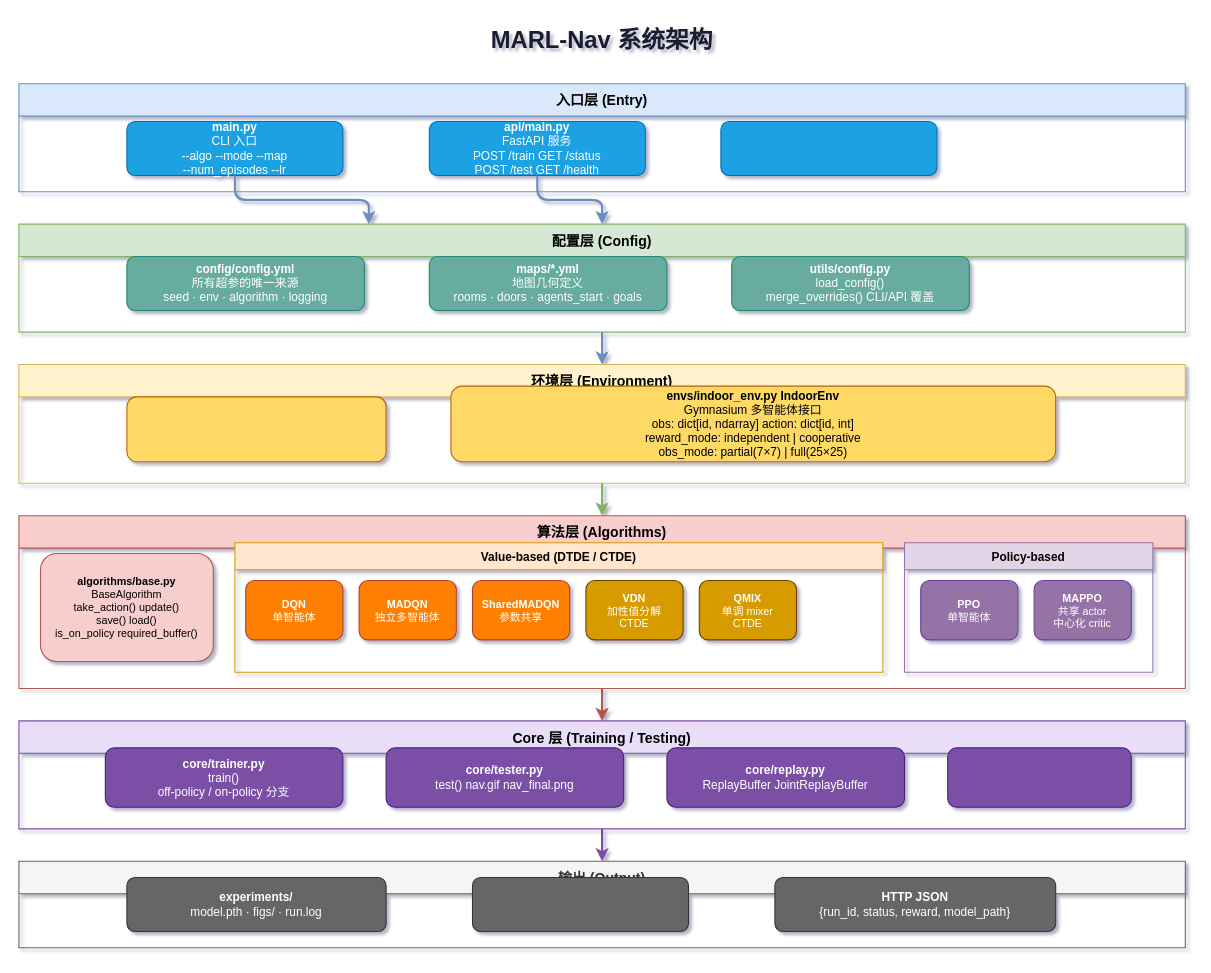
Image size: 1211x973. Some labels were removed from this diagram. The shapes that lost their labels are listed below. From the top down, each one's centre as x and y in pixels, then its label:
the point at 828,148: api/runs.py RunState 注册表 asyncio 后台任务 run_id 轮询
the point at 256,429: envs/map_builder.py load_map_spec() build_grid_array() WALL=1 DOOR=2 EMPTY=0
the point at 1039,777: core/plot.py reward.png steps.png
the point at 579,904: test/nav.gif 轨迹可视化动画
